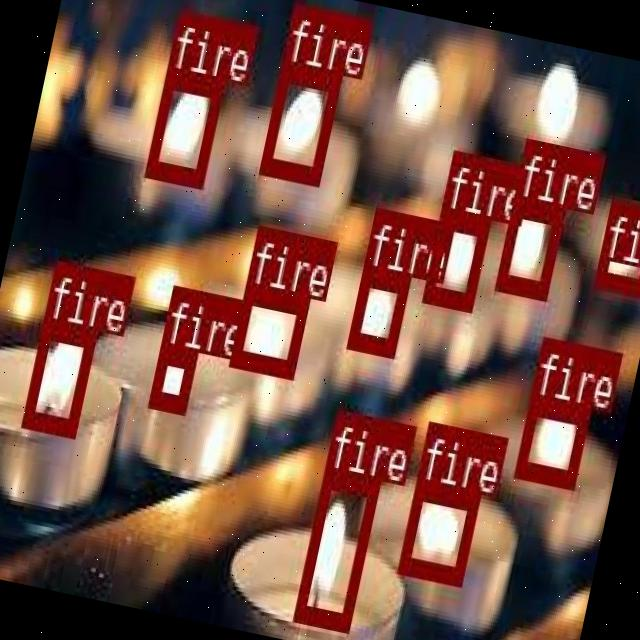fire: (293, 469, 378, 628), (257, 60, 339, 182), (143, 66, 222, 183), (21, 316, 96, 434), (396, 478, 478, 582), (228, 284, 308, 374), (493, 195, 562, 296), (421, 208, 490, 308), (514, 395, 588, 485), (346, 266, 407, 354), (592, 195, 640, 291), (147, 344, 196, 412)
